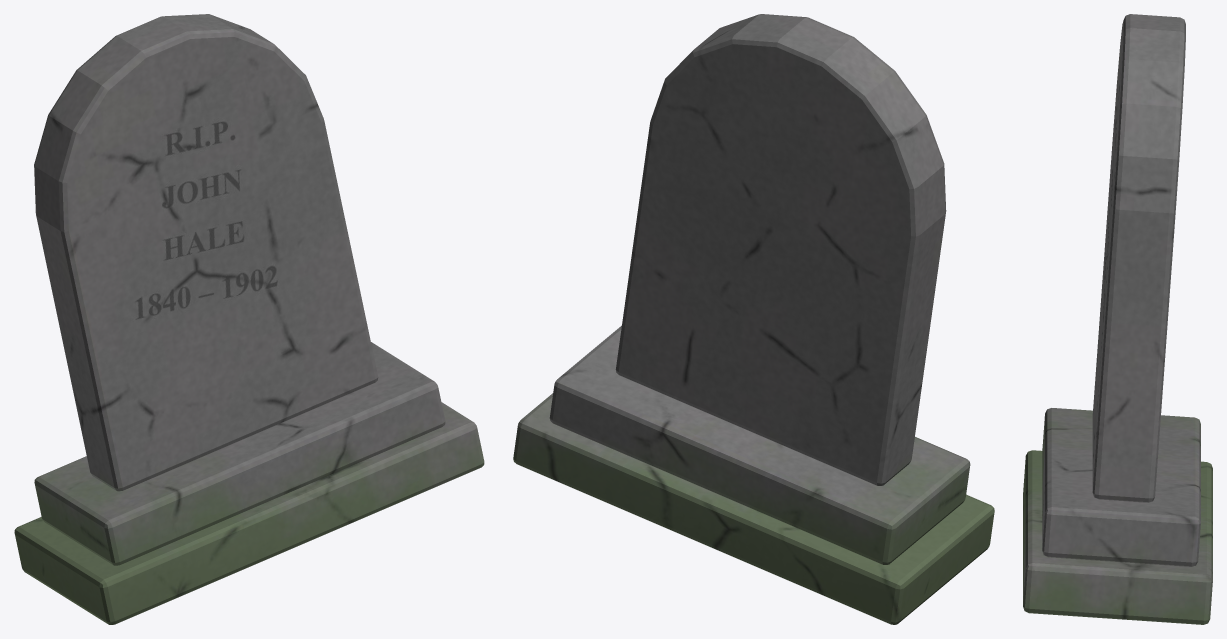
The model's file is gravestone_arch_tilted_a.glb.
3 renders of one model, left to right at view 1: azimuth 30°, elevation 25°; view 2: azimuth 150°, elevation 25°; view 3: azimuth 270°, elevation 25°, orthographic. The views are drawn at different scales.
Visible parts, largest first — view 1: gravestone_arch_tilted_a; view 2: gravestone_arch_tilted_a; view 3: gravestone_arch_tilted_a.
Part boxes in pixels (x1,y1,x2,y2): gravestone_arch_tilted_a: (14, 14, 484, 624); gravestone_arch_tilted_a: (513, 14, 994, 624); gravestone_arch_tilted_a: (1023, 14, 1212, 624).
Size of the model in its own units: 0.8642 by 1.15 by 0.3644.
Materials: 1 (1 with a texture image).
